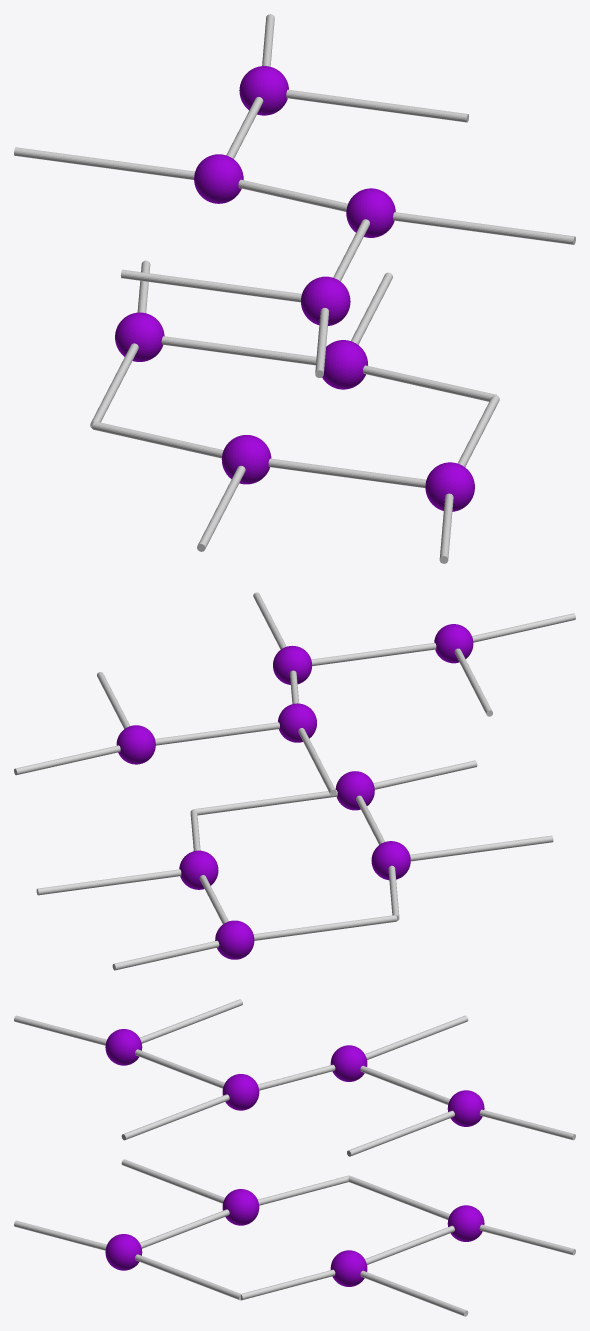
Rendered from structure_mpstyle.glb.
3 views of the same model, one above another, from view 1: azimuth 30°, elevation 25°; view 2: azimuth 150°, elevation 25°; view 3: azimuth 270°, elevation 25° (orthographic). The views are drawn at different scales.
Visible parts, largest first — view 1: world; view 2: world; view 3: world.
Boxes of the visible parts, x1,y1,x2,y2 form: world: [14, 14, 575, 563]; world: [14, 592, 575, 970]; world: [14, 999, 575, 1316].
Bounding box in the file's own units: 7.89 × 4.64 × 12.22.
